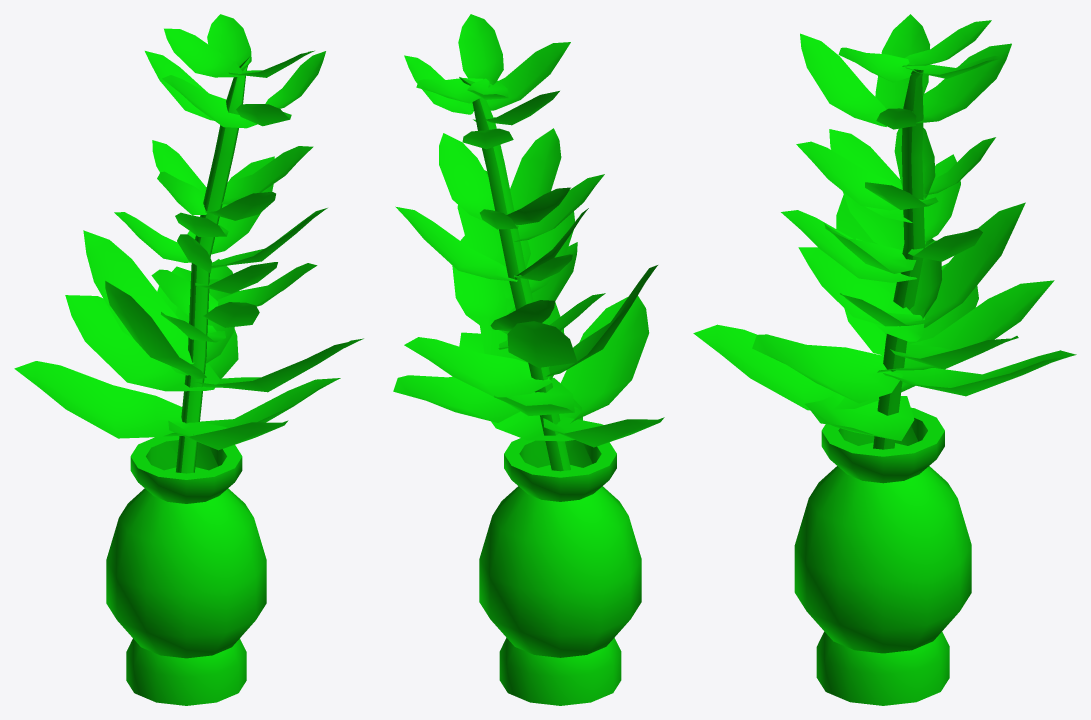
File: Pianta.fbx
3 renders of one model, left to right at view 1: azimuth 30°, elevation 25°; view 2: azimuth 150°, elevation 25°; view 3: azimuth 270°, elevation 25°, orthographic. The views are drawn at different scales.
Parts seen in each view (by area): view 1: Pianta1; view 2: Pianta1; view 3: Pianta1.
Boxes of the visible parts, <box> form: Pianta1: <box>14,14,363,705</box>; Pianta1: <box>393,14,664,705</box>; Pianta1: <box>693,14,1076,705</box>.
Size of the model in its own units: 69.06 by 144 by 73.55.
